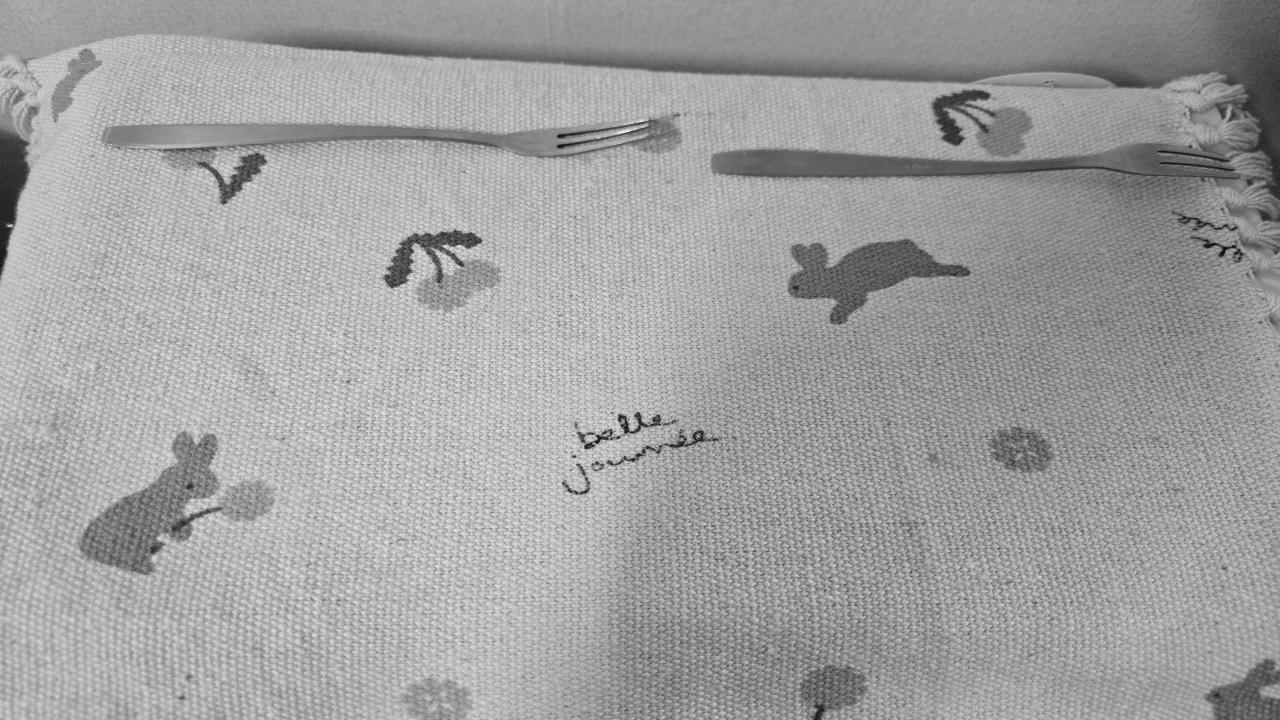fork: (101, 115, 665, 161), (714, 140, 1233, 183)
